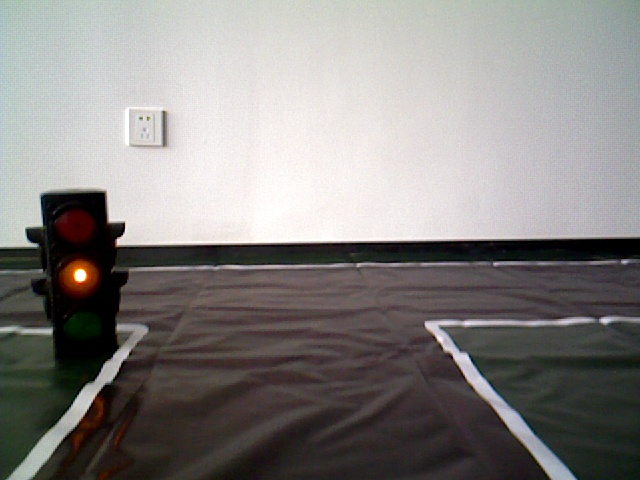yellow: (43, 191, 125, 346)
